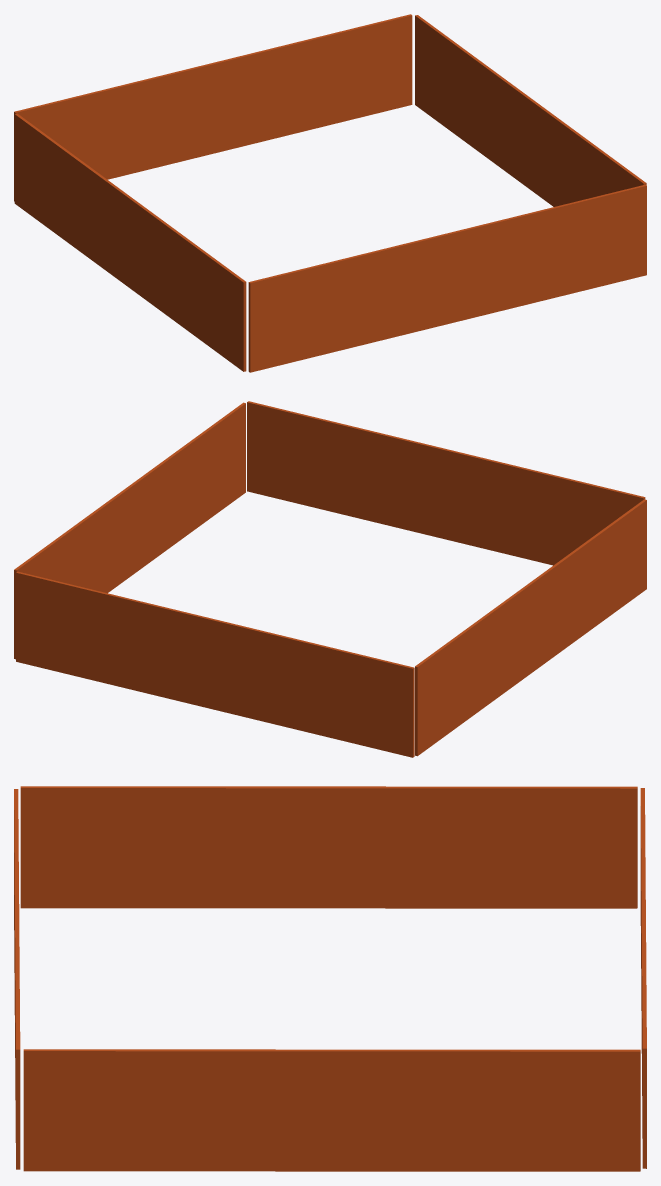
Rendered from sick_robot_day_2014_inner_block.dae.
3 renders of one model, top to bottom at view 1: azimuth 30°, elevation 25°; view 2: azimuth 150°, elevation 25°; view 3: azimuth 270°, elevation 25°, orthographic. The views are drawn at different scales.
Visible parts, largest first — view 1: BoundaryBank_002; view 2: BoundaryBank_002; view 3: BoundaryBank_002.
Part boxes in pixels (bbox=[...]): BoundaryBank_002: bbox=[14, 14, 646, 372]; BoundaryBank_002: bbox=[14, 401, 646, 757]; BoundaryBank_002: bbox=[14, 786, 646, 1171].
Bounding box in the file's own units: 2.37 × 2.39 × 0.5.
